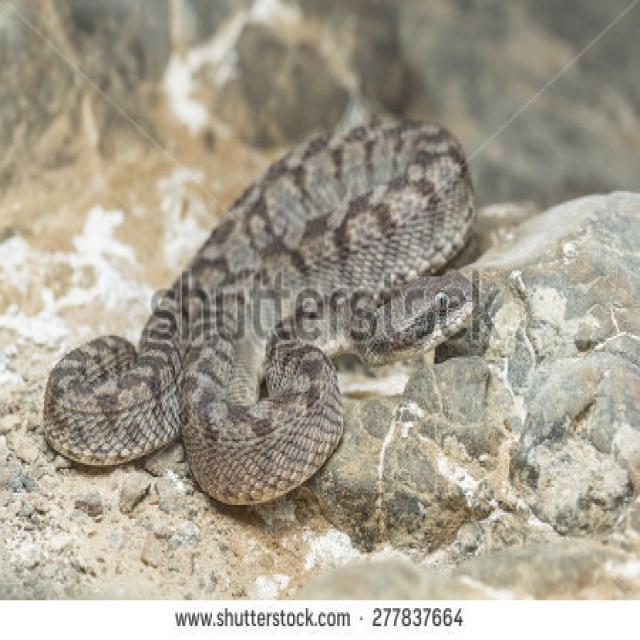Snake: (41, 108, 478, 510)
